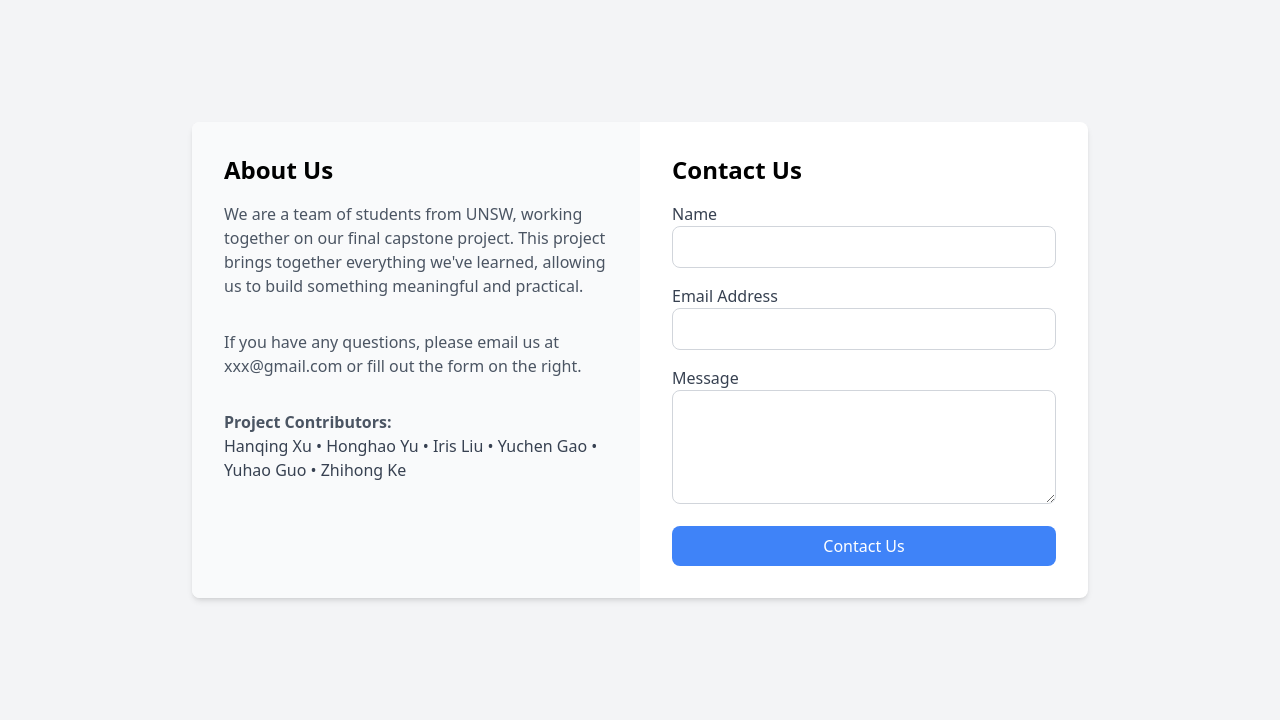
Test case: ContactPage Component › shows error modal when email sending fails
Type "John Doe" into the field labelled "Name" at (864, 247), box top-left (672, 226), bottom-right (1056, 268)
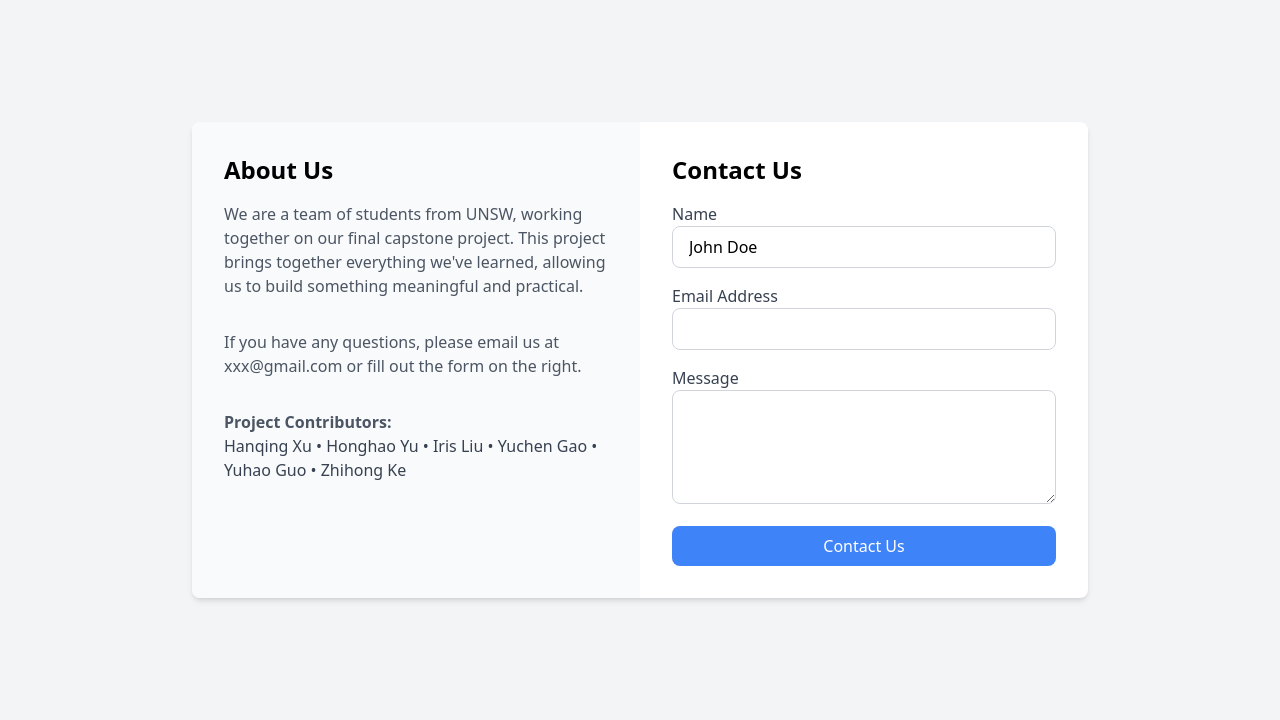
Type "john@example.com" into the field labelled "Email Address" at (864, 329), box top-left (672, 308), bottom-right (1056, 350)
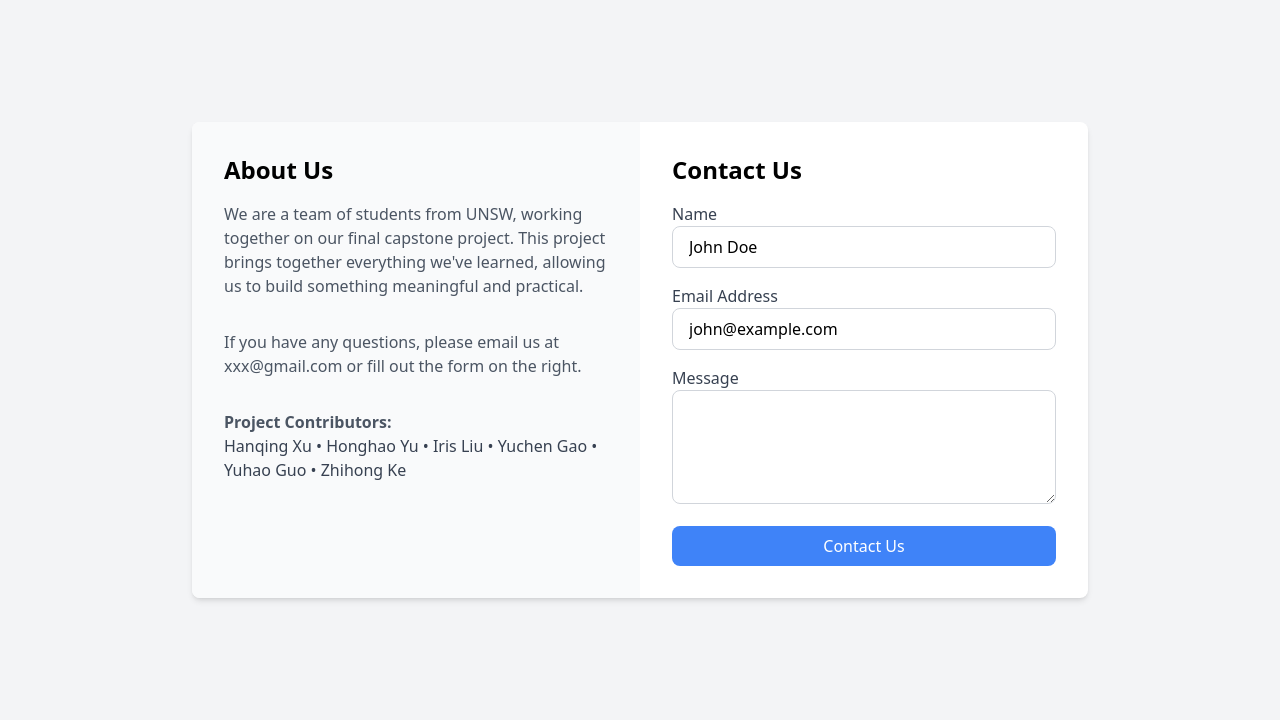
Type "Hello there!" into the text box labelled "Message" at (864, 447), box top-left (672, 390), bottom-right (1056, 504)
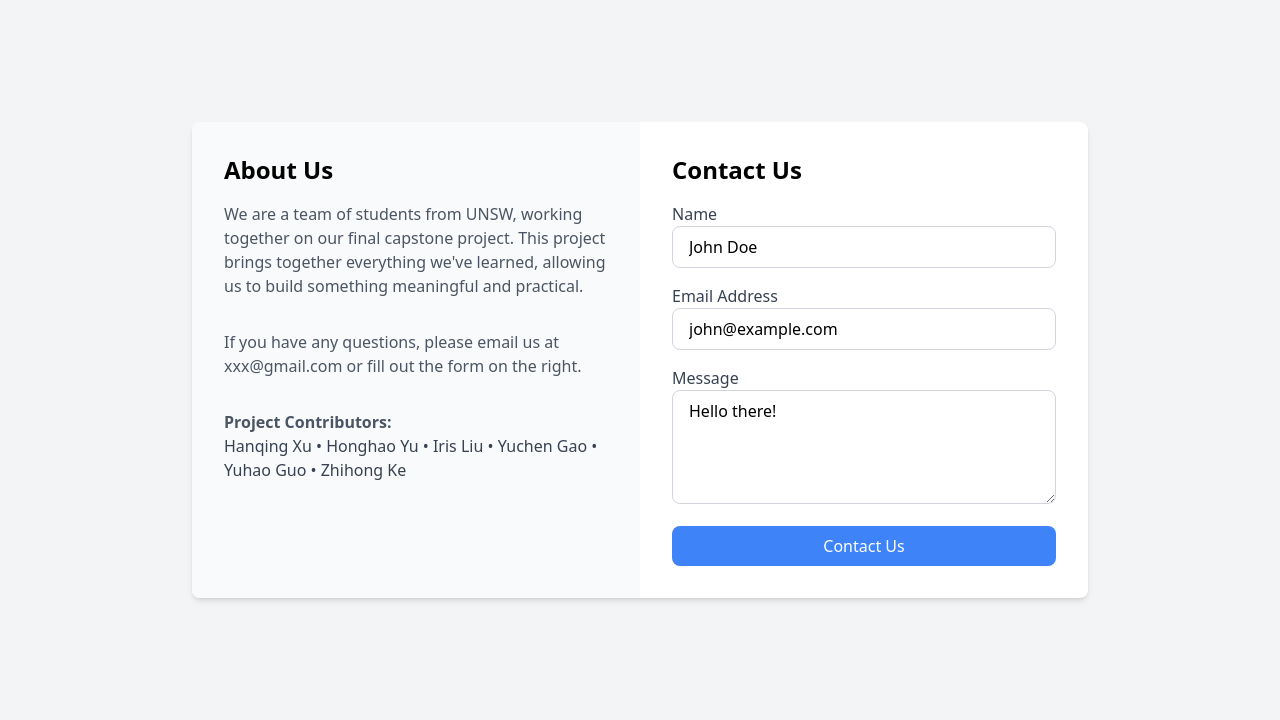
Click the button "Contact Us" at (864, 546), box top-left (672, 526), bottom-right (1056, 566)
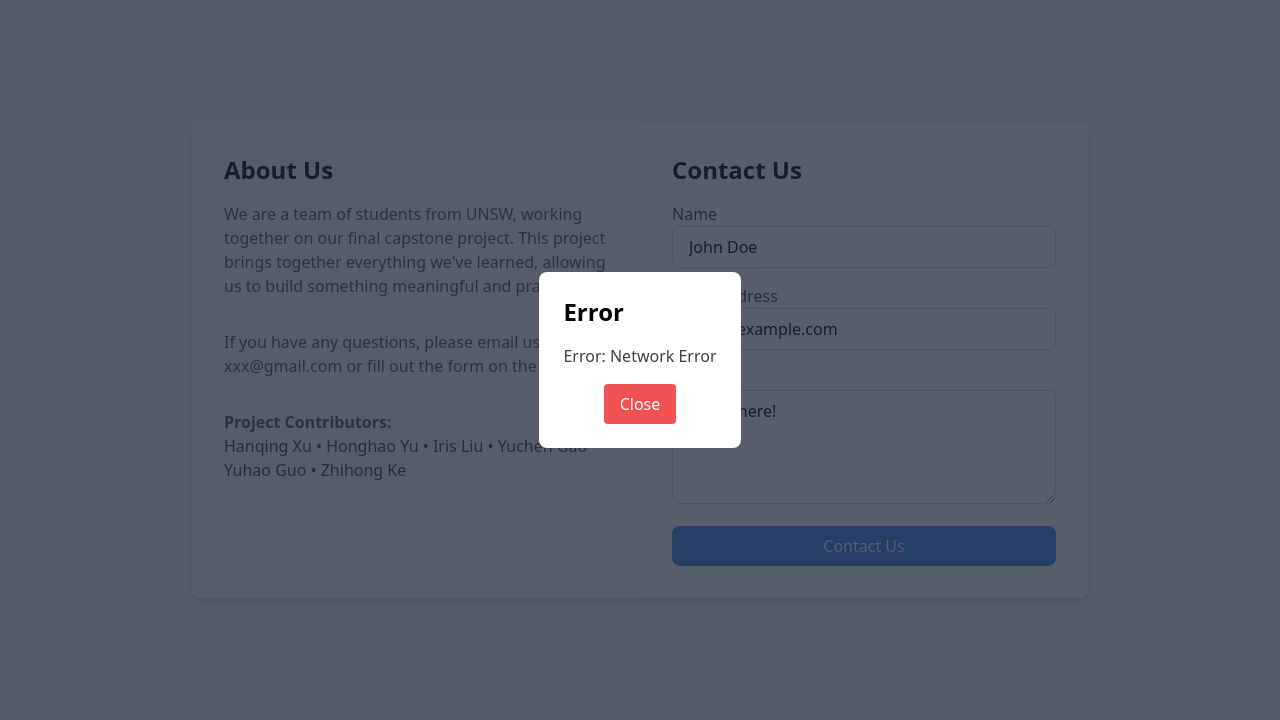
Check: the text "Error: Network Error" is shown, box top-left (563, 344), bottom-right (716, 368)
Check: the heading "Error" is shown, box top-left (563, 295), bottom-right (624, 328)
